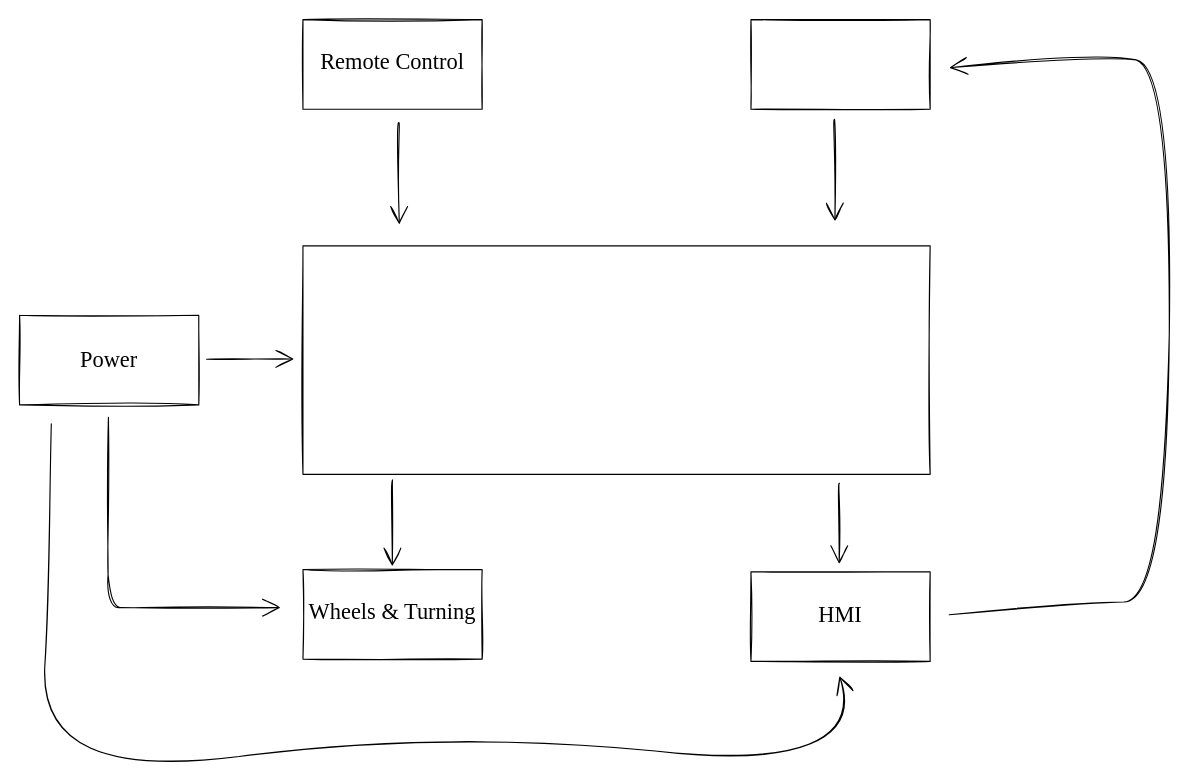
Some shapes in this 1189 by 782 pixel diagram are drawn without their labels. The centre of each missing label's shape, as x and y in pixels:
"Computer Vision" goes at (840,63).
"Main Controls" goes at (616,359).
